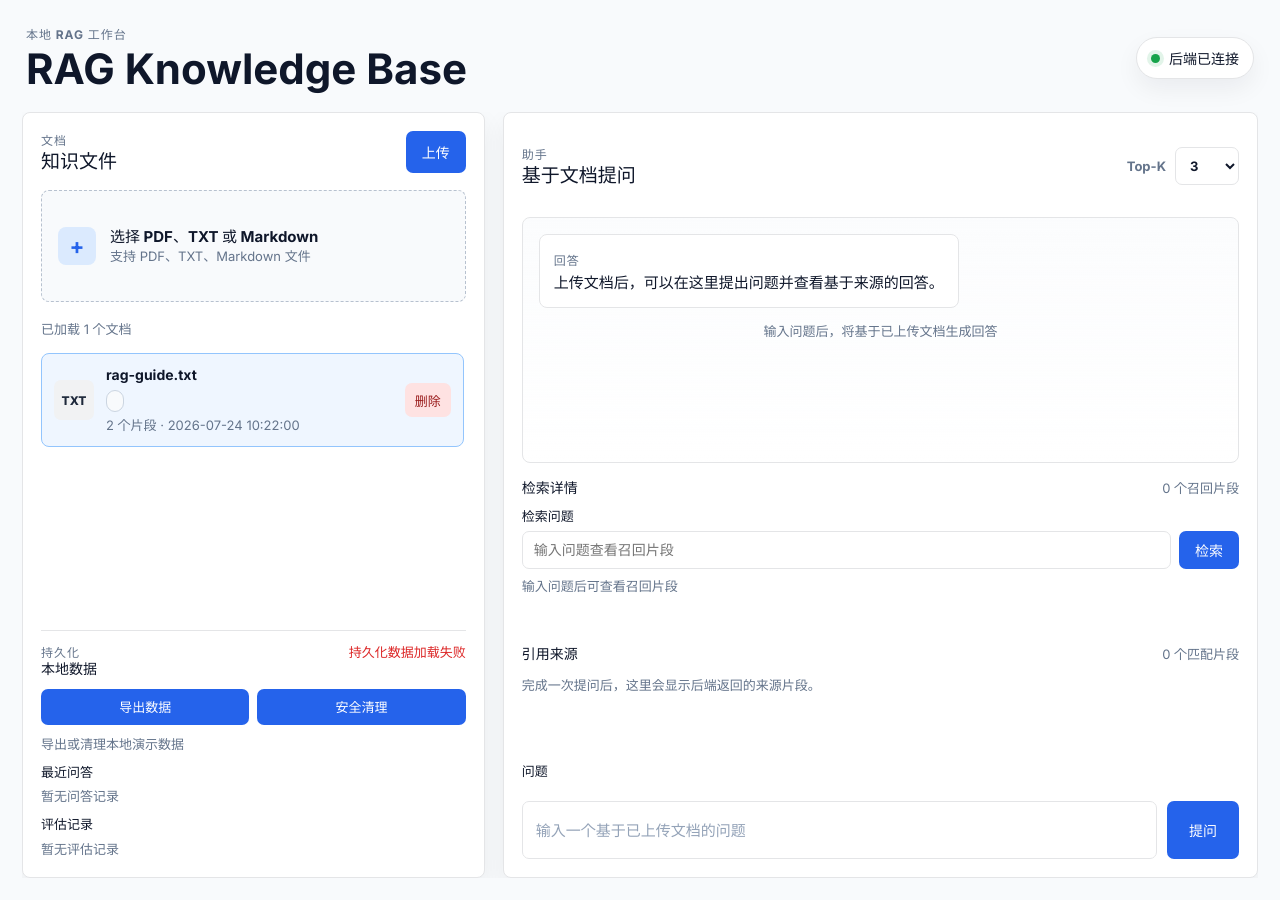
Test: App document workflow › deletes a document and refreshes the document list
Expected: the heading "rag-guide.txt" is shown, 106,366 -> 197,383
Click the button with aria-label "删除 rag-guide.txt".
click(428, 400)  # box 405,383 -> 451,417
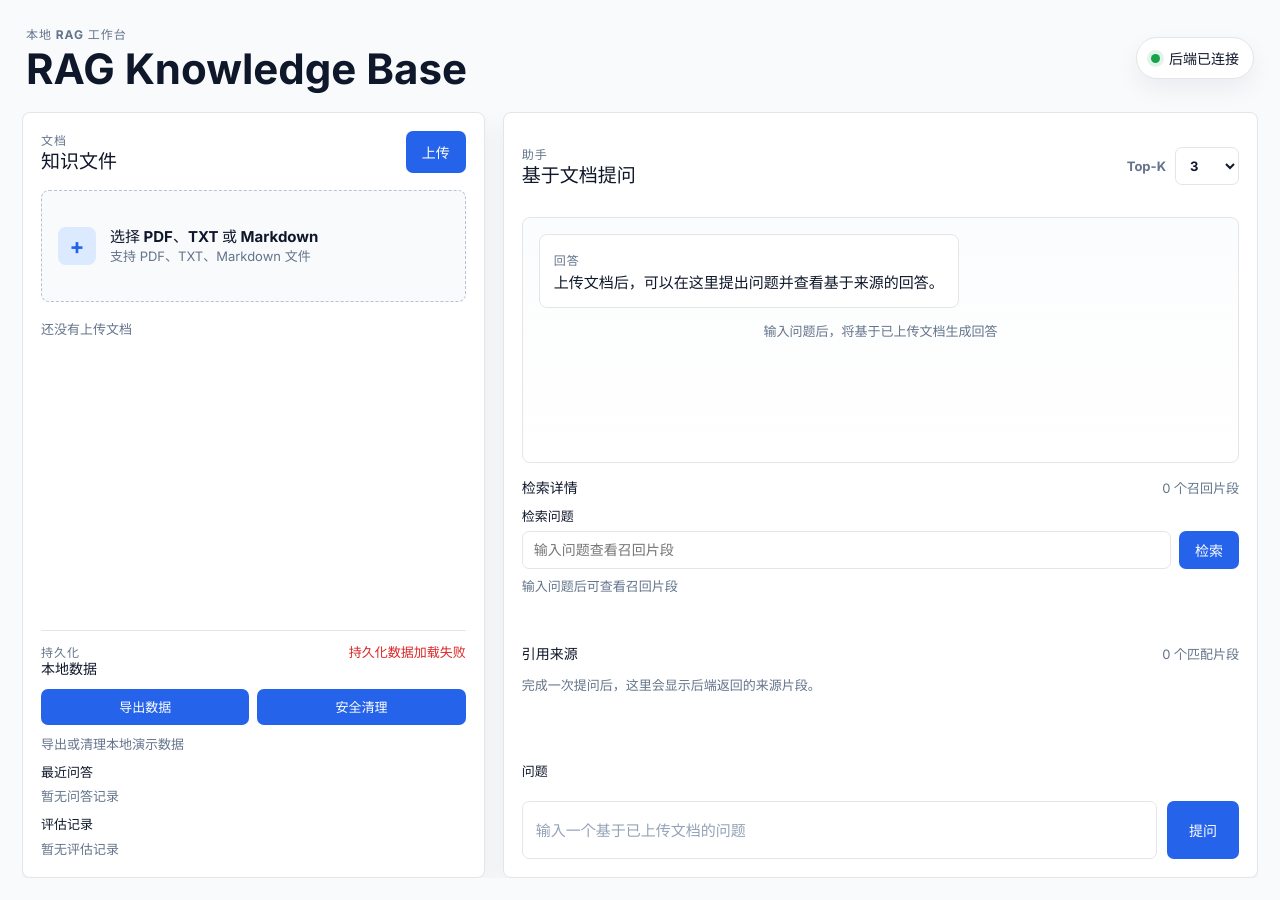
Expected: the text "还没有上传文档" is shown, 41,321 -> 132,337
